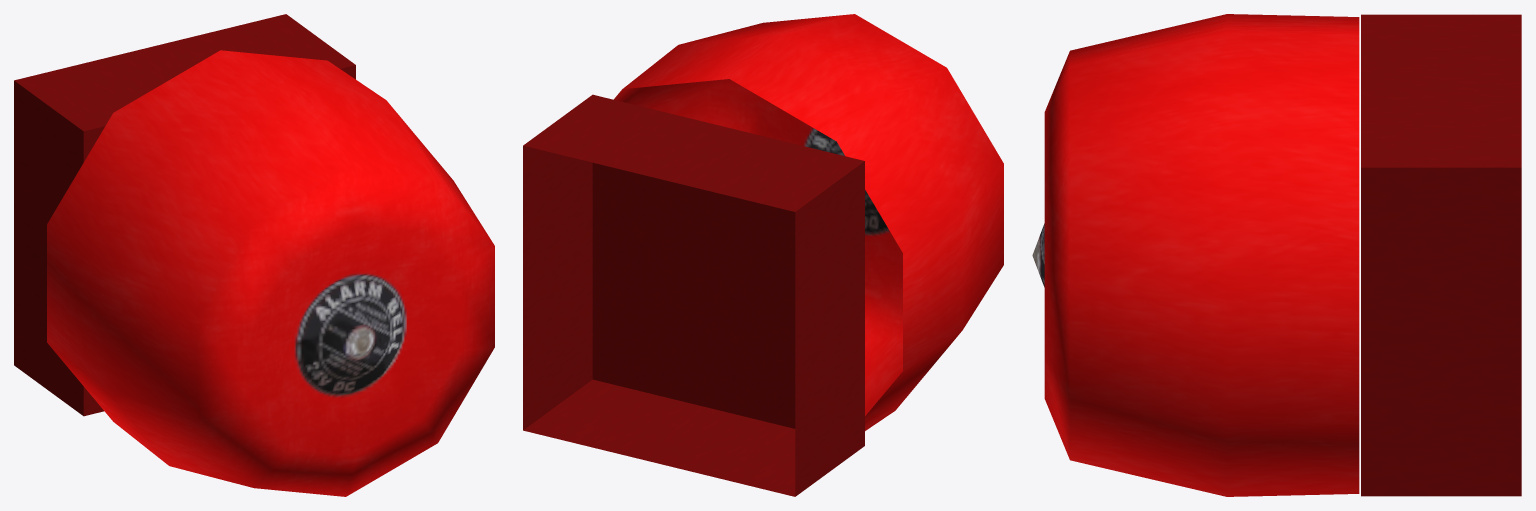
The model's file is FireAlarm.FBX.
3 renders of one model, left to right at view 1: azimuth 30°, elevation 25°; view 2: azimuth 150°, elevation 25°; view 3: azimuth 270°, elevation 25°, orthographic. The views are drawn at different scales.
Visible parts, largest first — view 1: FireAlarm; view 2: FireAlarm; view 3: FireAlarm.
Part boxes in pixels (<box>): FireAlarm: <box>14,14,494,496</box>; FireAlarm: <box>523,14,1003,496</box>; FireAlarm: <box>1032,14,1521,496</box>.
Size of the model in its own units: 16.52 by 17.37 by 17.27.
1 material, 1 textured.
